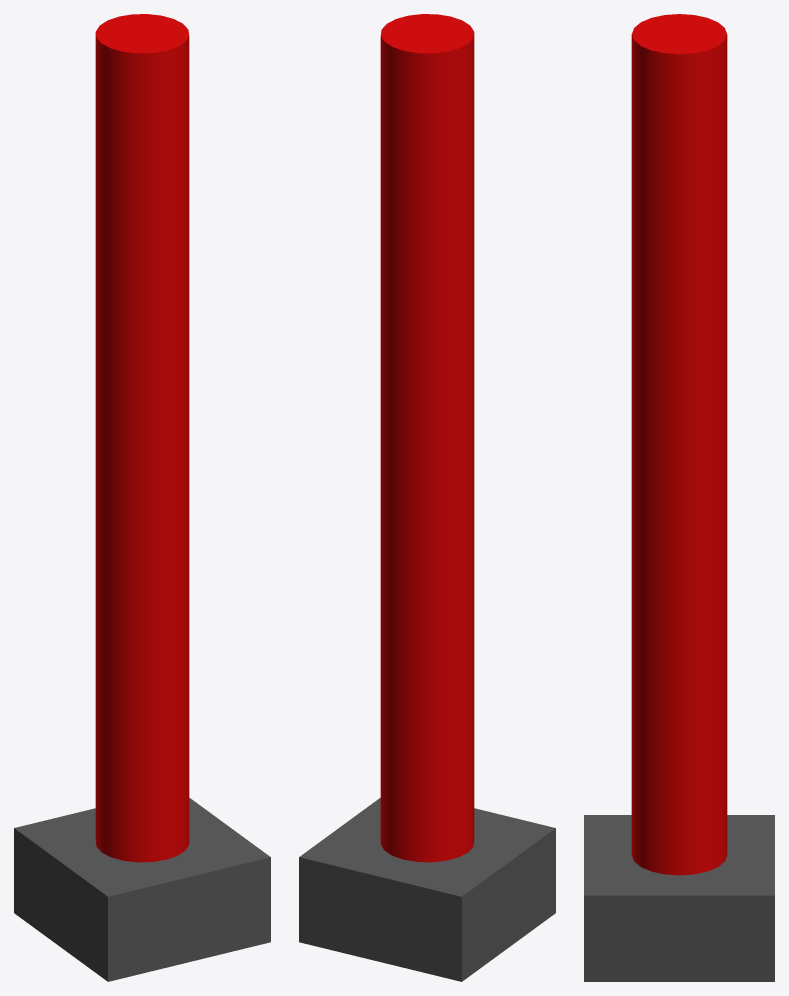
Rendered from Block_Goal.fbx.
3 renders of one model, left to right at view 1: azimuth 30°, elevation 25°; view 2: azimuth 150°, elevation 25°; view 3: azimuth 270°, elevation 25°, orthographic.
Parts seen in each view (by area): view 1: pCylinder2; view 2: pCylinder2; view 3: pCylinder2.
Part boxes in pixels (x1,y1,x2,y2): pCylinder2: (14, 14, 270, 981); pCylinder2: (299, 14, 555, 981); pCylinder2: (584, 14, 774, 981).
Size of the model in its own units: 0.2 by 1.05 by 0.2.
